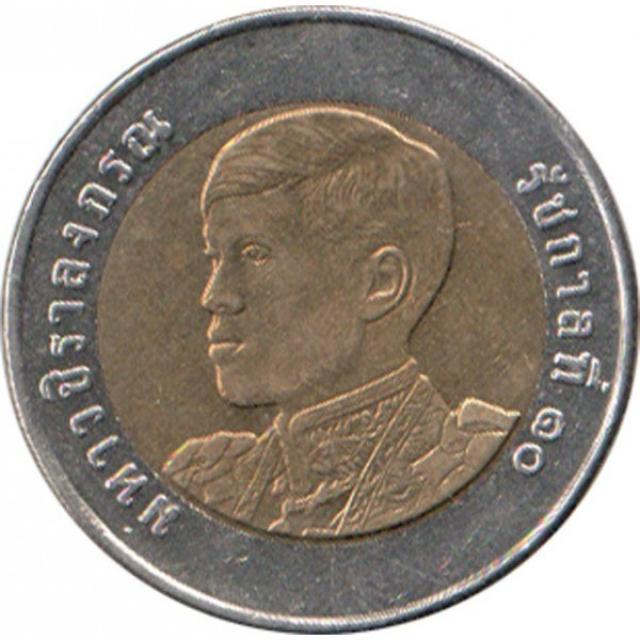10 Bath: (3, 1, 640, 640)
